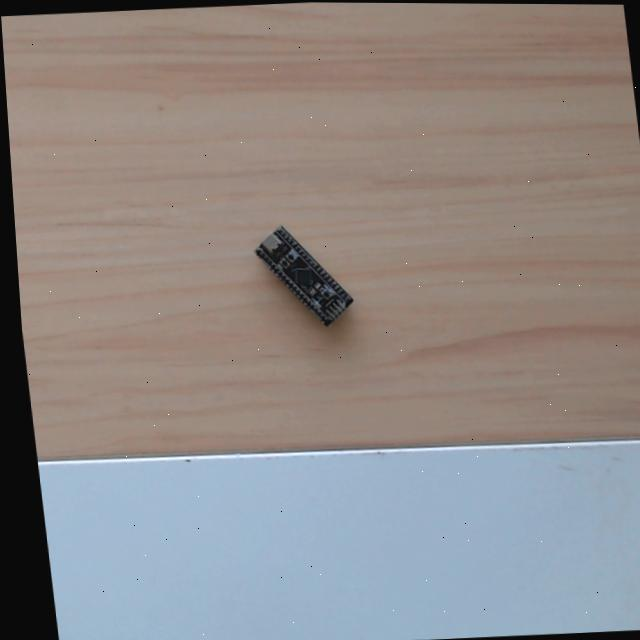STM32-Blackpill: (249, 221, 357, 327)
